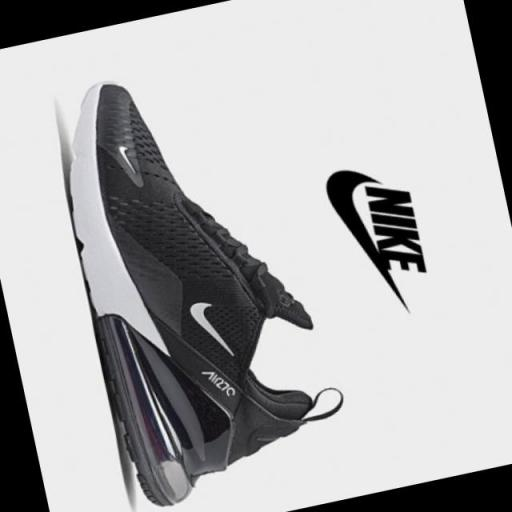Nike: (362, 176, 428, 285), (184, 293, 236, 365)
